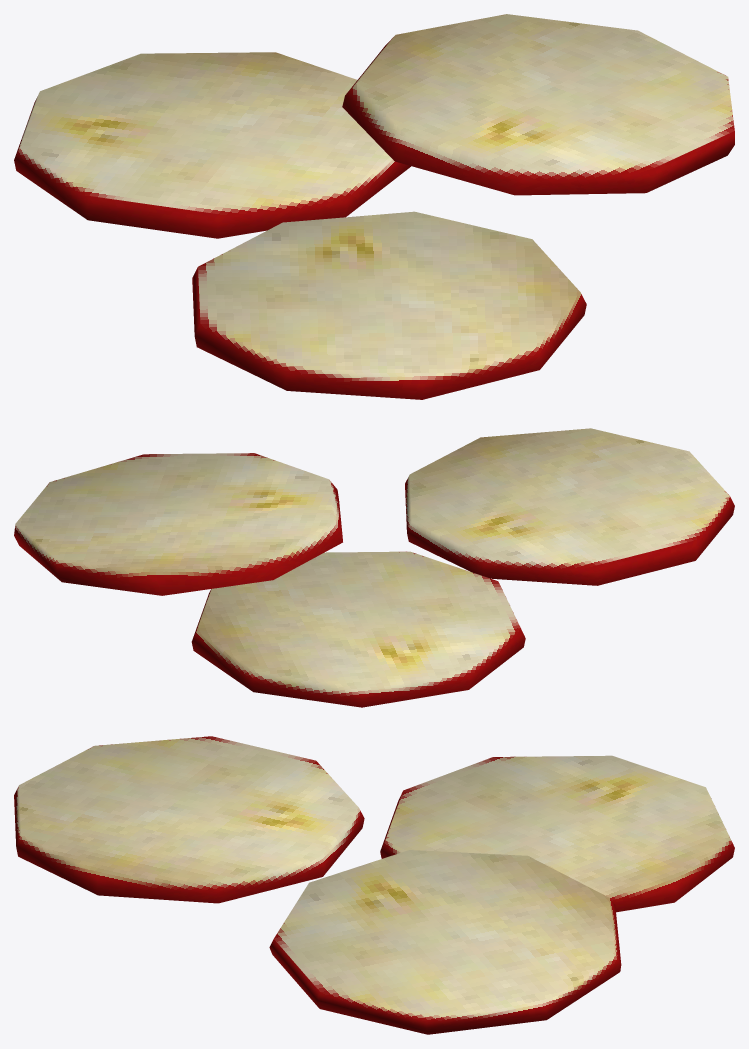
File: Dried_Medium.fbx
3 renders of one model, top to bottom at view 1: azimuth 30°, elevation 25°; view 2: azimuth 150°, elevation 25°; view 3: azimuth 270°, elevation 25°, orthographic. The views are drawn at different scales.
Parts seen in each view (by area): view 1: Cookies_Shortbread; view 2: Cookies_Shortbread; view 3: Cookies_Shortbread.
Part boxes in pixels (x1,y1,x2,y2): Cookies_Shortbread: [14, 14, 734, 399]; Cookies_Shortbread: [14, 428, 734, 707]; Cookies_Shortbread: [14, 736, 734, 1034].
Size of the model in its own units: 30.65 by 2.31 by 32.94.
